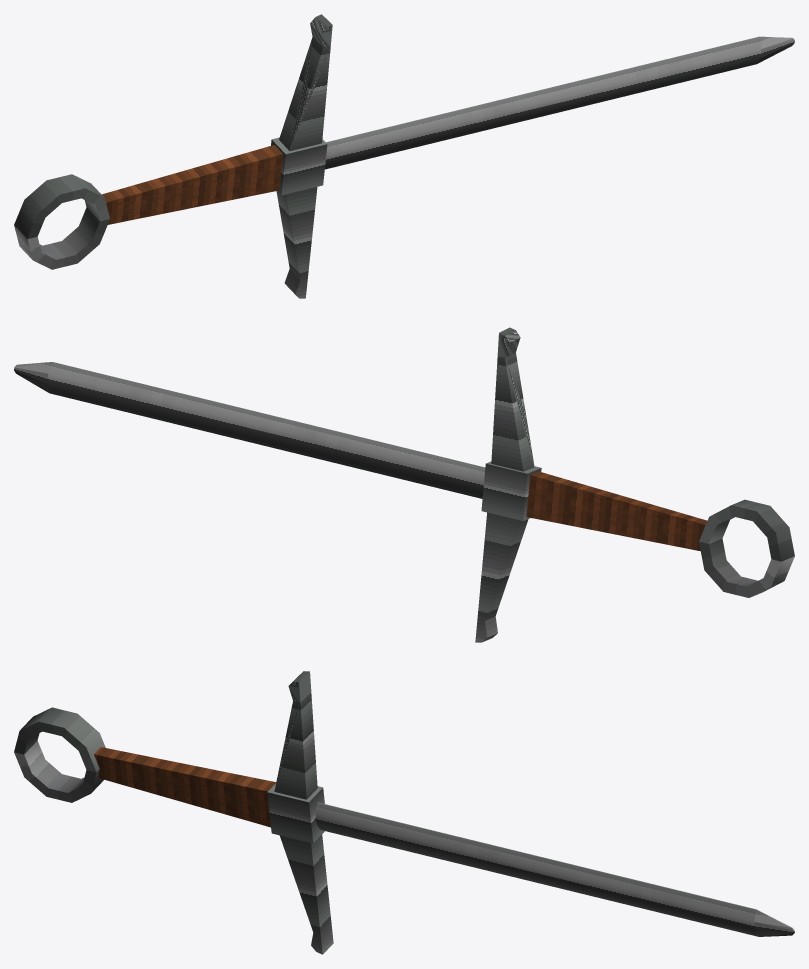
The picture shows the model from 3 angles, top to bottom: view 1: azimuth 30°, elevation 25°; view 2: azimuth 150°, elevation 25°; view 3: azimuth 330°, elevation 25°; orthographic projection.
Visible parts, largest first — view 1: it139; view 2: it139; view 3: it139.
Boxes of the visible parts, x1,y1,x2,y2 form: it139: (14,14,794,298); it139: (14,327,794,642); it139: (14,671,794,954).
Bounding box in the file's own units: 1.58 × 0.5746 × 0.1281.
2 materials, 2 textured.
